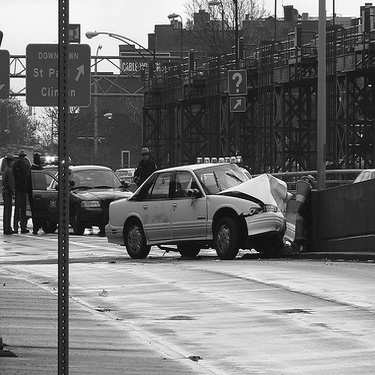car: (101, 162, 299, 261), (40, 159, 133, 239), (345, 159, 370, 190), (113, 166, 138, 189)
